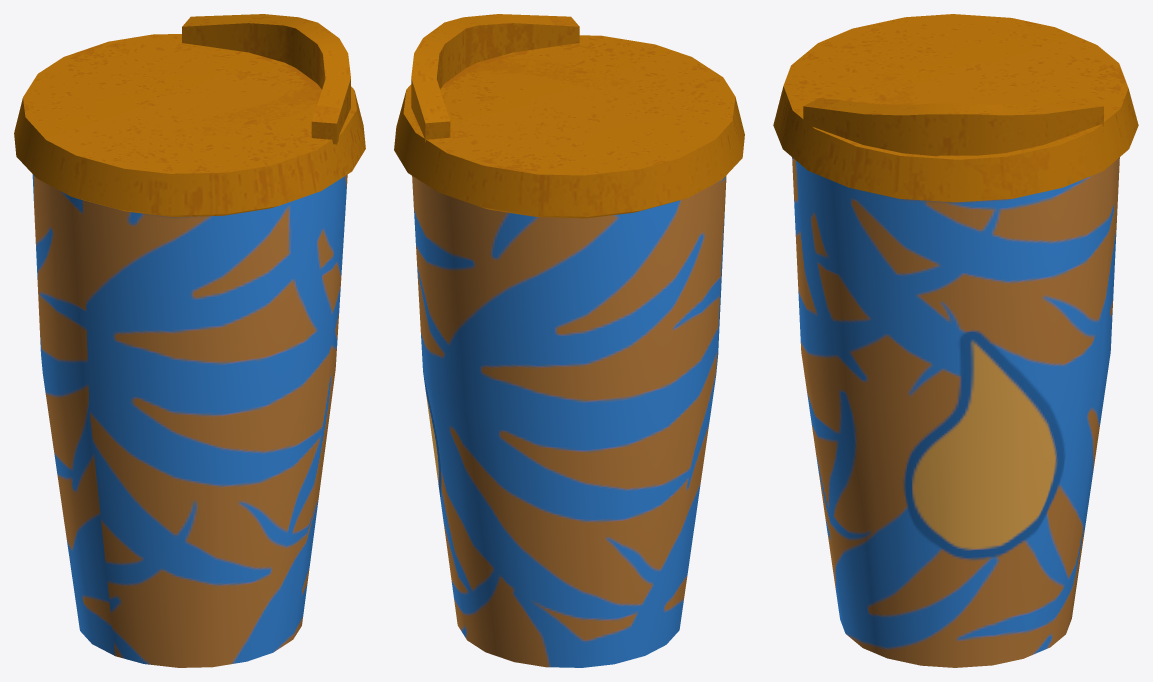
Rendered from SM_Drink_Cup1.fbx.
The picture shows the model from 3 angles, left to right: view 1: azimuth 30°, elevation 25°; view 2: azimuth 150°, elevation 25°; view 3: azimuth 270°, elevation 25°; orthographic projection. The views are drawn at different scales.
Parts seen in each view (by area): view 1: SM_Drink_Cup1_LOD0; view 2: SM_Drink_Cup1_LOD0; view 3: SM_Drink_Cup1_LOD0.
Boxes of the visible parts, x1,y1,x2,y2 form: SM_Drink_Cup1_LOD0: [14, 14, 365, 667]; SM_Drink_Cup1_LOD0: [394, 14, 744, 667]; SM_Drink_Cup1_LOD0: [773, 14, 1138, 667].
Bounding box in the file's own units: 12.13 × 12.17 × 21.1.
1 material, 1 textured.
